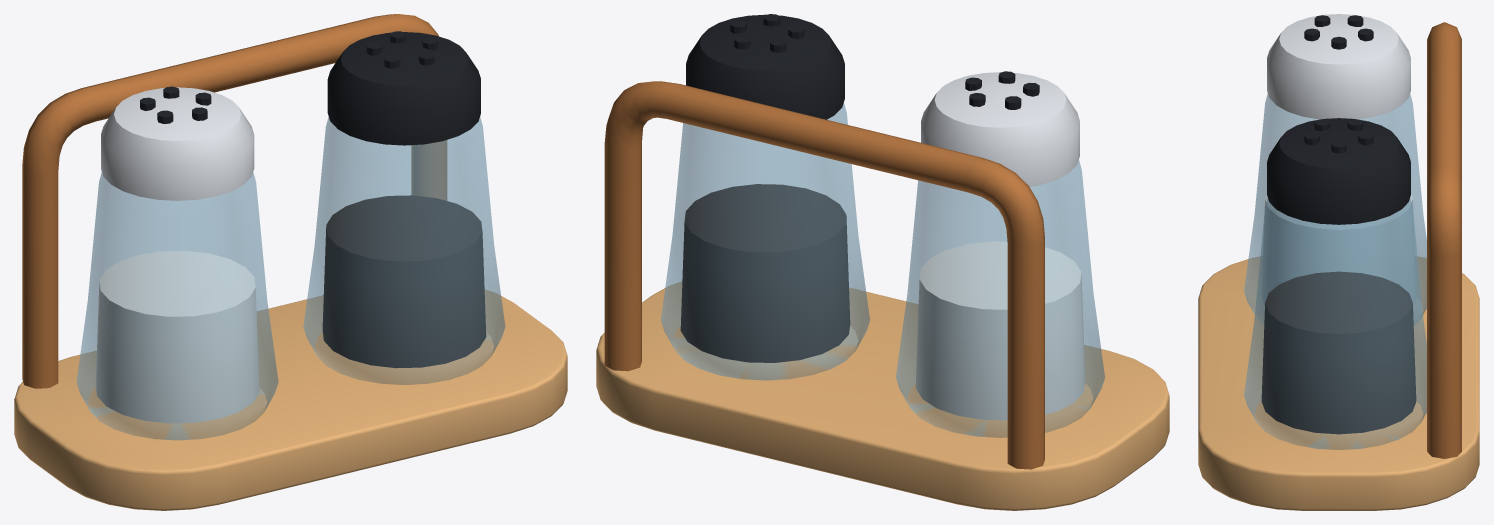
The model's file is saleiro_pimenteiro_bandeja.glb.
The picture shows the model from 3 angles, left to right: view 1: azimuth 30°, elevation 25°; view 2: azimuth 150°, elevation 25°; view 3: azimuth 270°, elevation 25°; orthographic projection. The views are drawn at different scales.
Parts seen in each view (by area): view 1: saleiro_pimenteiro_bandeja; view 2: saleiro_pimenteiro_bandeja; view 3: saleiro_pimenteiro_bandeja.
Part boxes in pixels (x1,y1,x2,y2): saleiro_pimenteiro_bandeja: (14,14,567,510); saleiro_pimenteiro_bandeja: (596,14,1169,510); saleiro_pimenteiro_bandeja: (1198,14,1479,510).
Size of the model in its own units: 0.15 by 0.1005 by 0.08.
2 materials, 1 textured.
